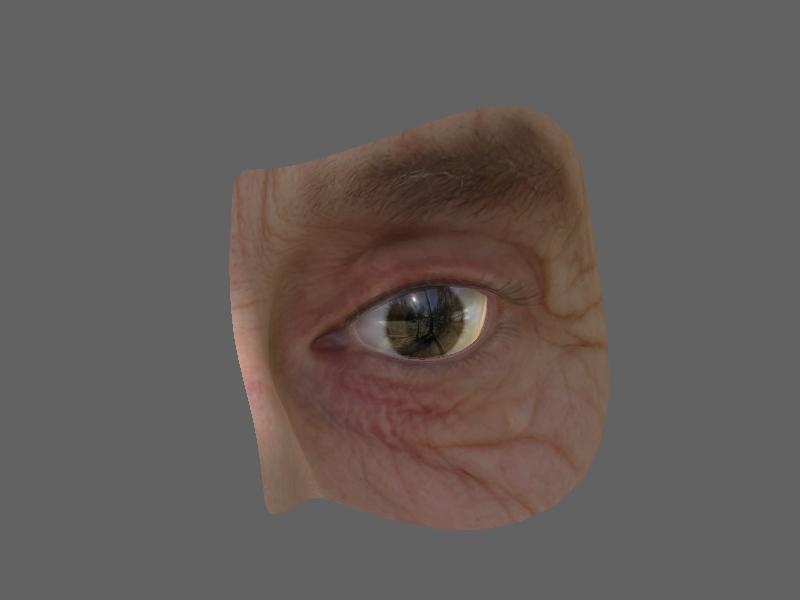iris: (389, 293, 467, 359)
